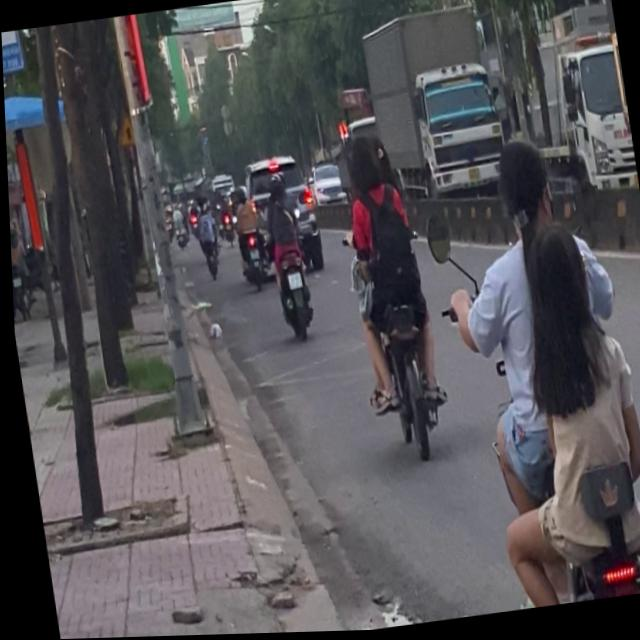licenseplate: (428, 121, 640, 615), (324, 114, 455, 470)
motorcyclist: (516, 220, 602, 386), (489, 135, 556, 236), (340, 131, 385, 203)
